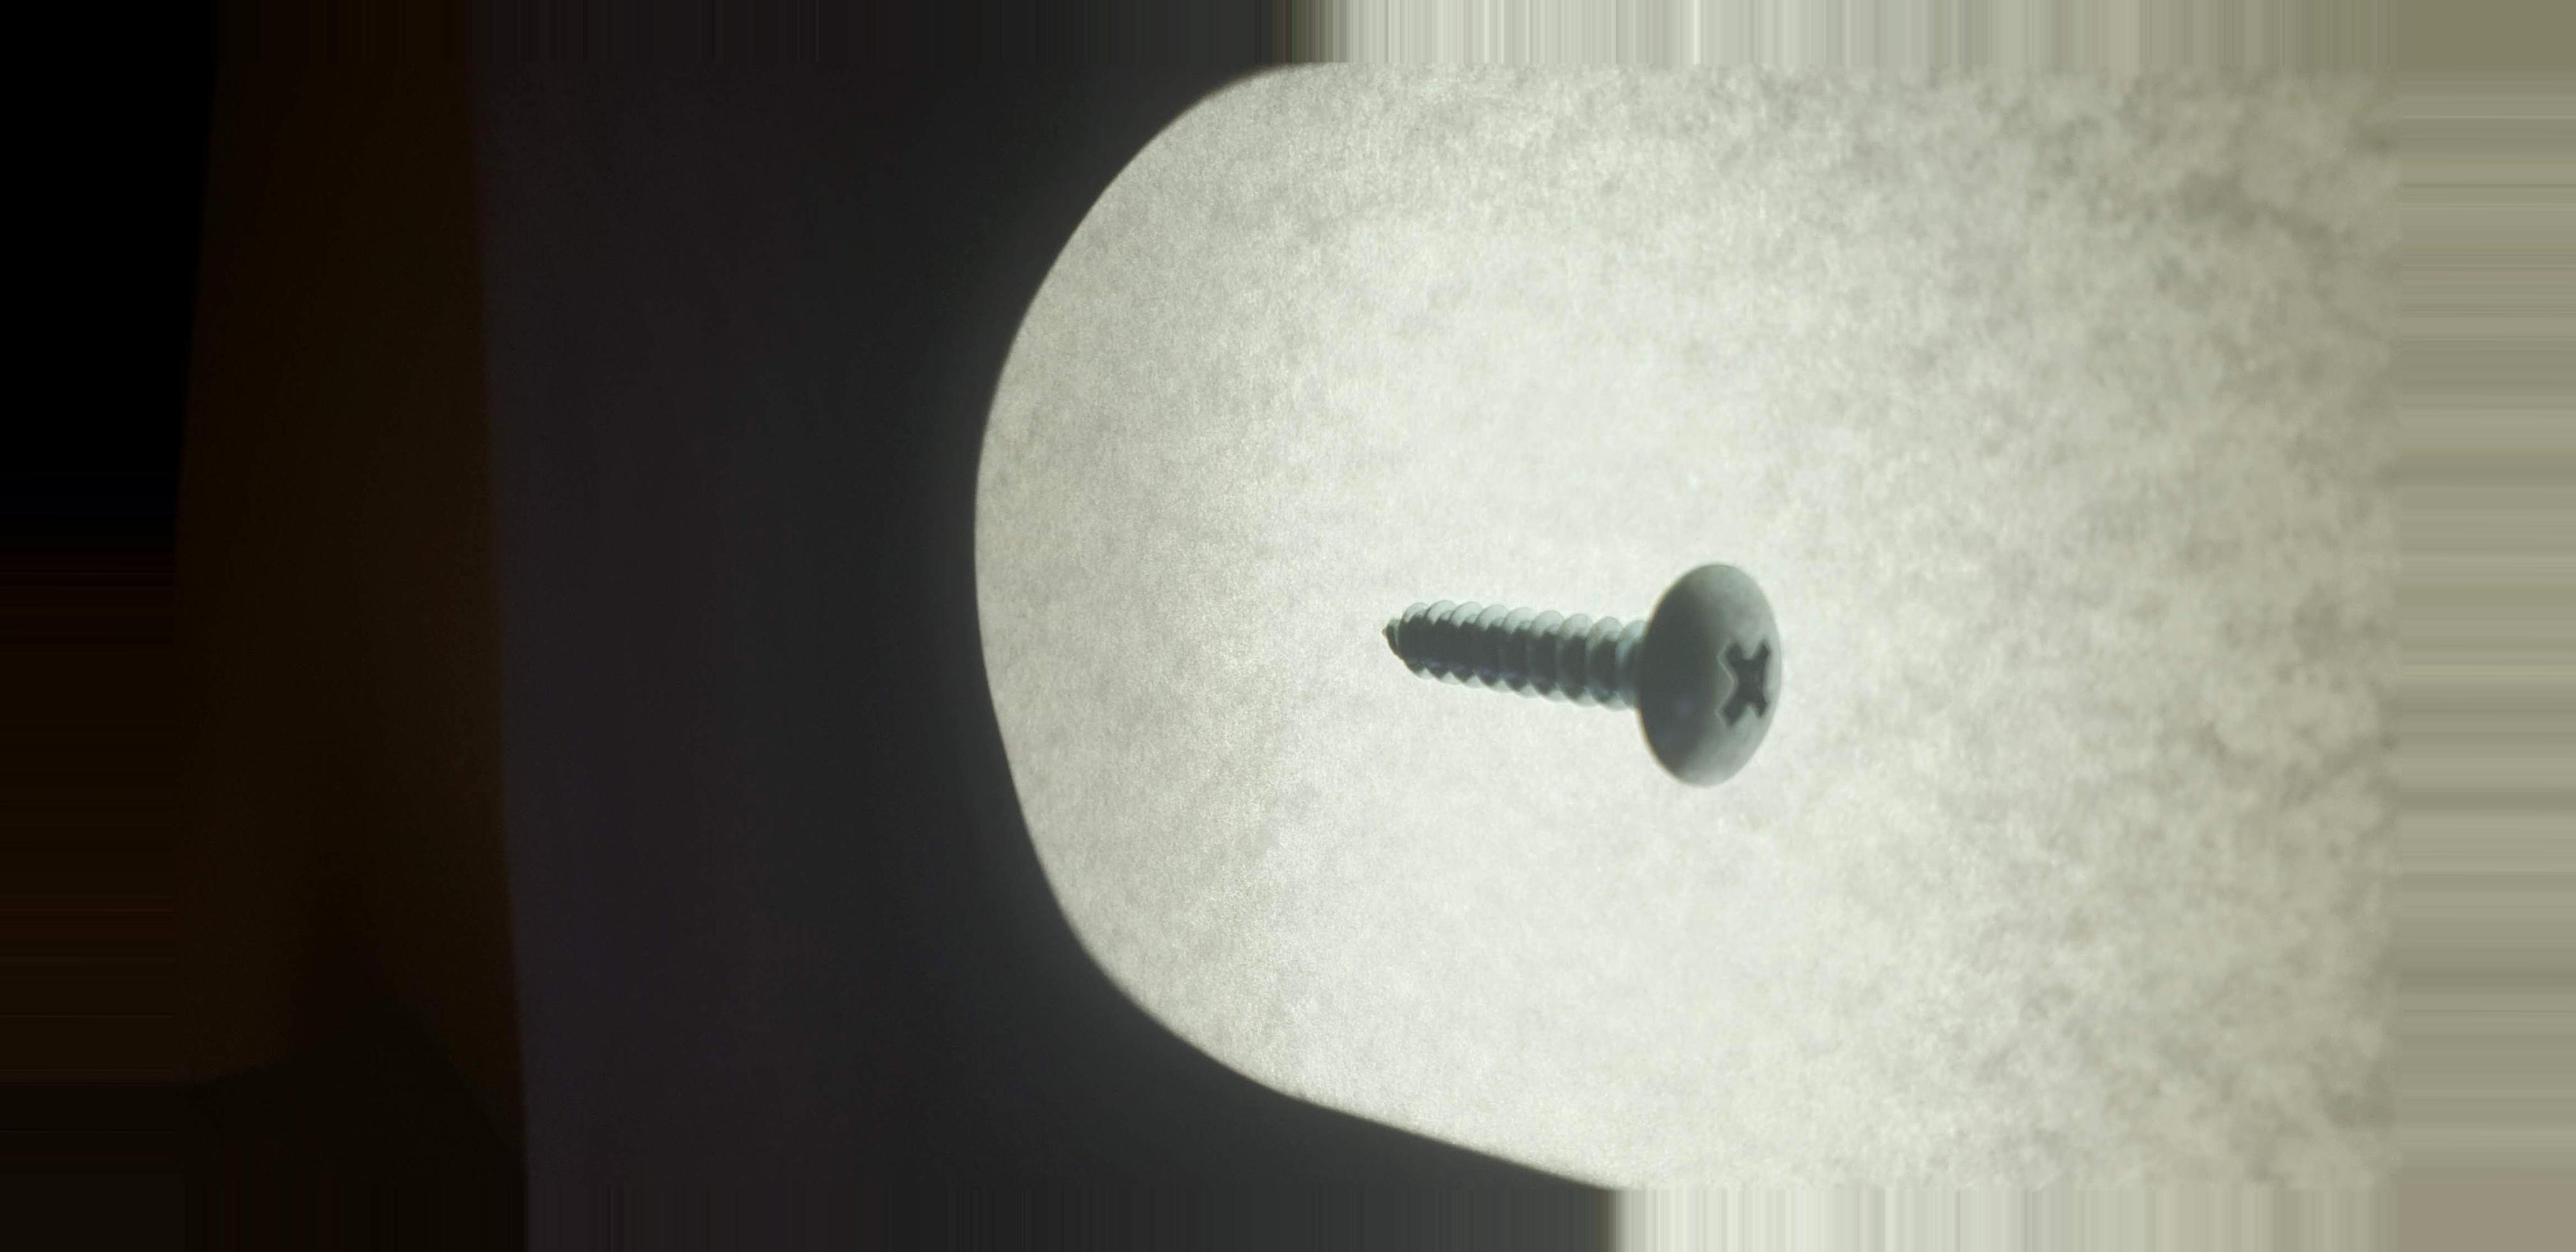S002: (1329, 501, 1843, 853)
